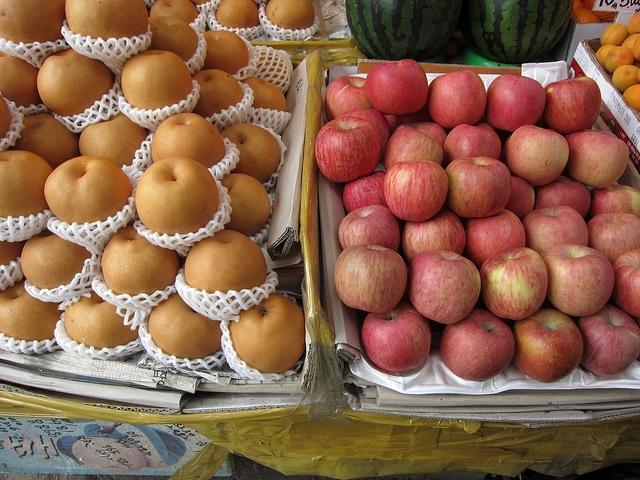apple: (135, 156, 219, 236), (44, 155, 133, 226), (228, 293, 306, 374), (185, 230, 268, 306), (440, 308, 515, 382), (37, 48, 115, 118), (512, 308, 584, 383), (408, 250, 480, 324), (102, 228, 180, 296), (148, 290, 223, 360), (542, 244, 614, 316), (334, 244, 406, 314), (479, 247, 548, 320), (362, 301, 432, 372), (576, 304, 640, 376), (315, 116, 382, 183), (64, 291, 140, 350), (121, 49, 193, 111), (8, 112, 82, 171), (445, 156, 512, 218), (152, 112, 226, 168), (0, 278, 64, 342), (384, 160, 448, 222), (79, 111, 148, 168), (505, 125, 569, 186), (464, 210, 526, 272), (566, 128, 629, 189), (220, 123, 281, 184), (484, 73, 546, 132), (401, 208, 466, 264), (0, 150, 53, 218), (66, 0, 149, 42), (542, 76, 602, 134), (366, 59, 428, 115), (522, 206, 588, 258), (428, 70, 487, 128), (220, 173, 270, 237), (334, 108, 390, 162), (0, 0, 66, 45), (586, 212, 640, 266), (338, 204, 400, 250), (383, 124, 443, 171), (443, 124, 501, 169), (192, 68, 244, 118), (533, 177, 591, 219), (324, 76, 375, 122), (584, 184, 640, 224), (200, 30, 248, 76), (342, 170, 390, 214), (610, 249, 640, 318), (383, 102, 436, 140), (240, 76, 288, 112), (391, 122, 448, 150), (504, 172, 534, 222), (266, 1, 314, 31), (149, 0, 199, 24), (0, 241, 28, 266), (471, 122, 498, 138)
orange: (612, 64, 638, 92), (600, 22, 628, 46), (623, 84, 640, 113), (627, 12, 639, 35), (632, 35, 640, 61)
pear: (135, 157, 219, 236), (228, 292, 306, 374), (44, 155, 133, 225), (101, 225, 180, 296), (37, 48, 115, 117), (185, 230, 266, 294), (148, 291, 222, 360), (121, 49, 194, 111), (64, 291, 140, 350), (21, 228, 92, 290), (8, 112, 82, 170), (152, 112, 225, 168), (1, 150, 54, 226), (78, 113, 148, 169), (220, 122, 280, 184), (65, 0, 148, 42), (217, 173, 271, 237), (0, 0, 67, 45), (191, 70, 244, 118), (0, 51, 44, 108), (148, 16, 198, 63), (200, 30, 249, 75), (240, 76, 288, 112), (266, 1, 316, 30), (216, 0, 260, 29), (150, 0, 199, 24), (1, 239, 28, 266), (0, 96, 12, 140), (190, 0, 210, 6)
